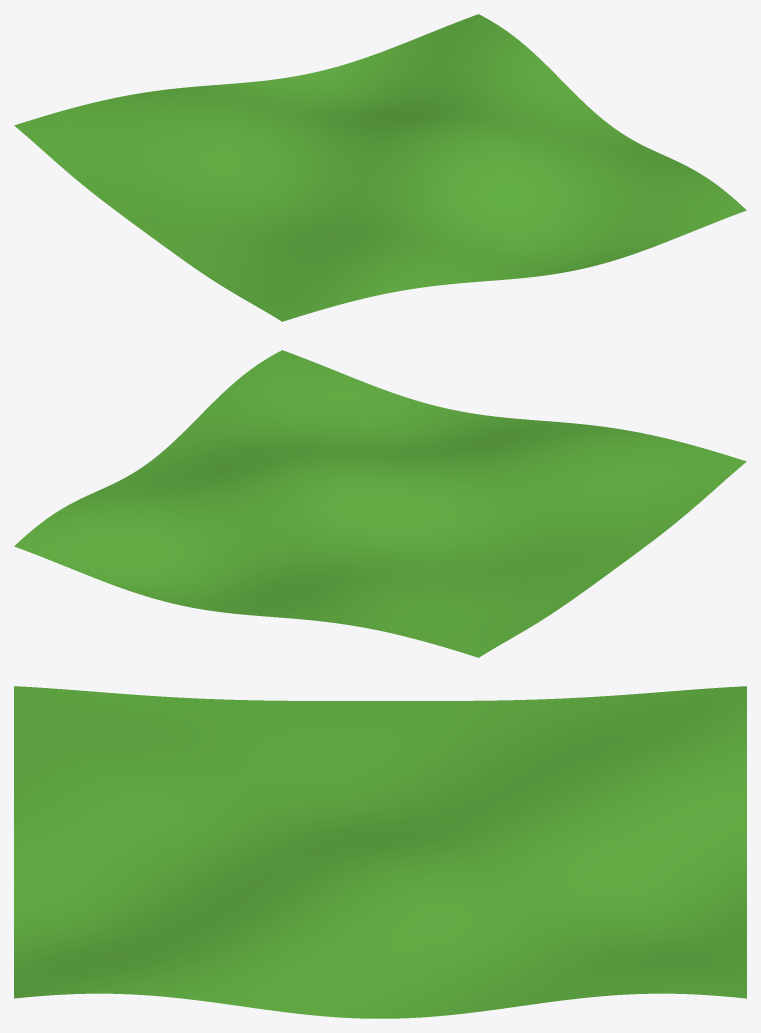
File: Grassland.obj
3 views of the same model, one above another, from view 1: azimuth 30°, elevation 25°; view 2: azimuth 150°, elevation 25°; view 3: azimuth 270°, elevation 25° (orthographic). The views are drawn at different scales.
Visible parts, largest first — view 1: Grassland; view 2: Grassland; view 3: Grassland.
Boxes of the visible parts, x1,y1,x2,y2 form: Grassland: [14, 14, 746, 321]; Grassland: [14, 350, 746, 657]; Grassland: [14, 686, 746, 1018].
Size of the model in its own units: 240 by 17.36 by 240.
